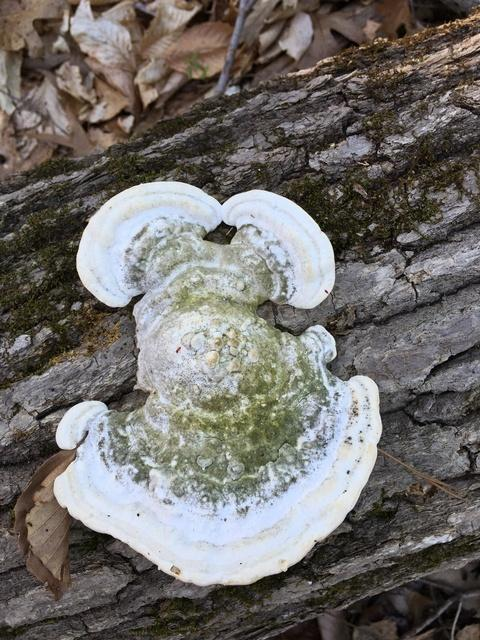poisonous_mushroom: (51, 179, 383, 587)
